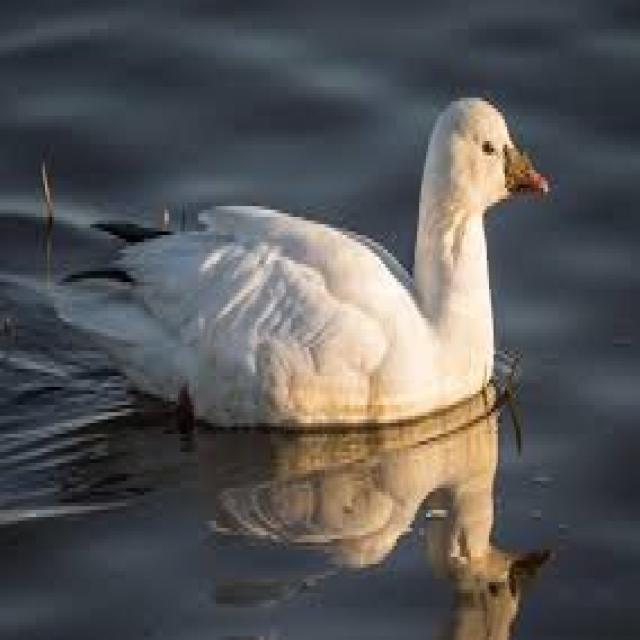Goose: (47, 89, 546, 456)
